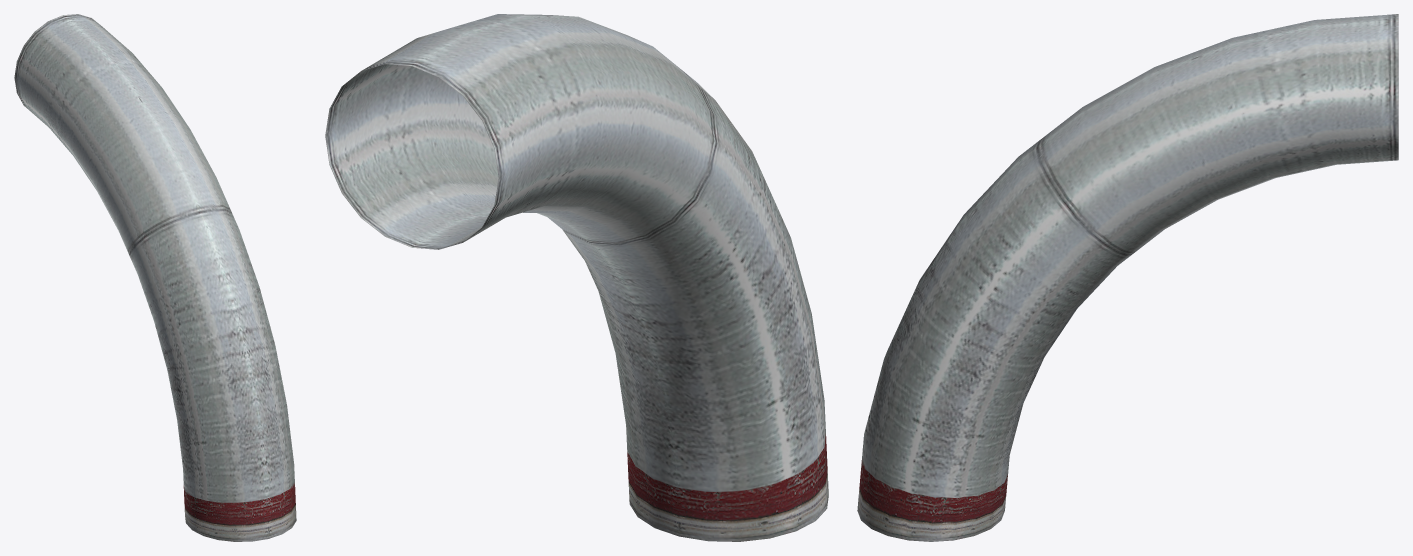
File: Pipe_B_0'5mts_00.fbx
3 views of the same model, side by side, from view 1: azimuth 30°, elevation 25°; view 2: azimuth 150°, elevation 25°; view 3: azimuth 270°, elevation 25° (orthographic). The views are drawn at different scales.
Parts seen in each view (by area): view 1: Pipe_B_0'5mts_00; view 2: Pipe_B_0'5mts_00; view 3: Pipe_B_0'5mts_00.
Part boxes in pixels (x1,y1,x2,y2): Pipe_B_0'5mts_00: (14, 14, 296, 541); Pipe_B_0'5mts_00: (325, 14, 828, 541); Pipe_B_0'5mts_00: (857, 14, 1398, 541).
Size of the model in its own units: 50.23 by 184 by 184.
Materials: 1 (1 with a texture image).
